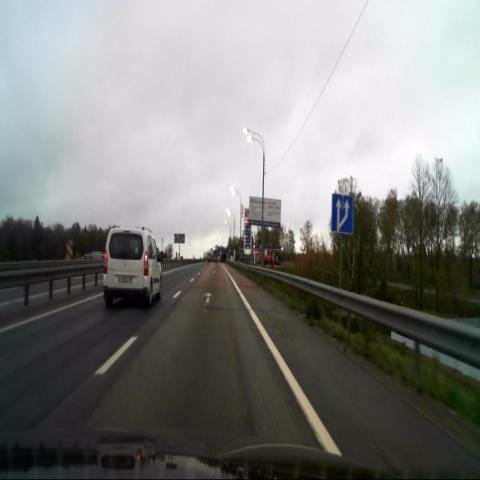5_15_3: (331, 193, 353, 234)
